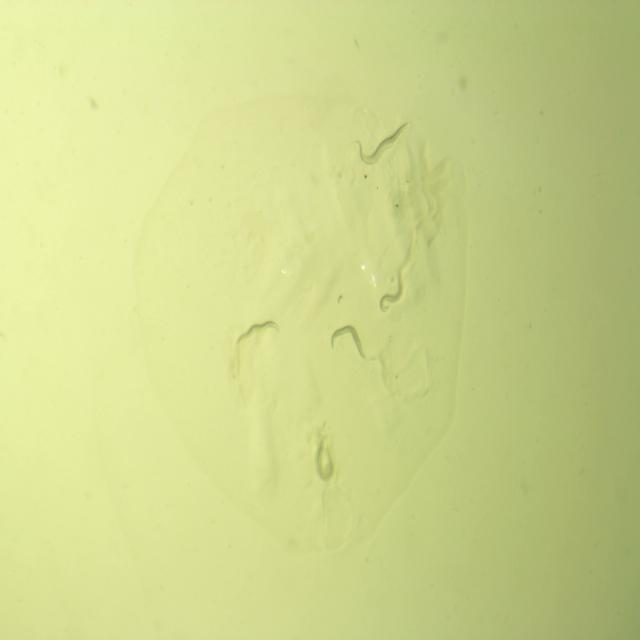worm: (235, 298, 283, 358), (358, 114, 412, 165), (316, 320, 373, 368), (374, 267, 406, 322), (309, 430, 338, 488), (354, 134, 395, 168)
